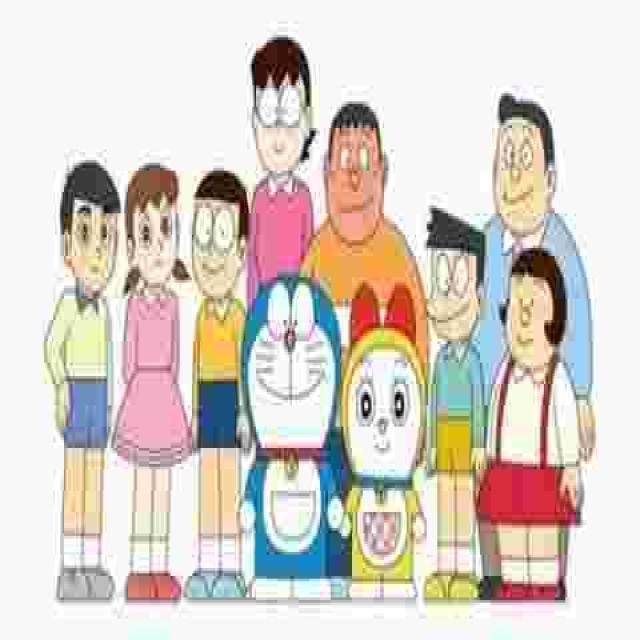doraemon: (236, 259, 337, 477)
jaian: (317, 93, 393, 259)
nobita: (181, 160, 251, 320)
shizuka: (118, 155, 190, 309)
suneo: (417, 187, 487, 368)
